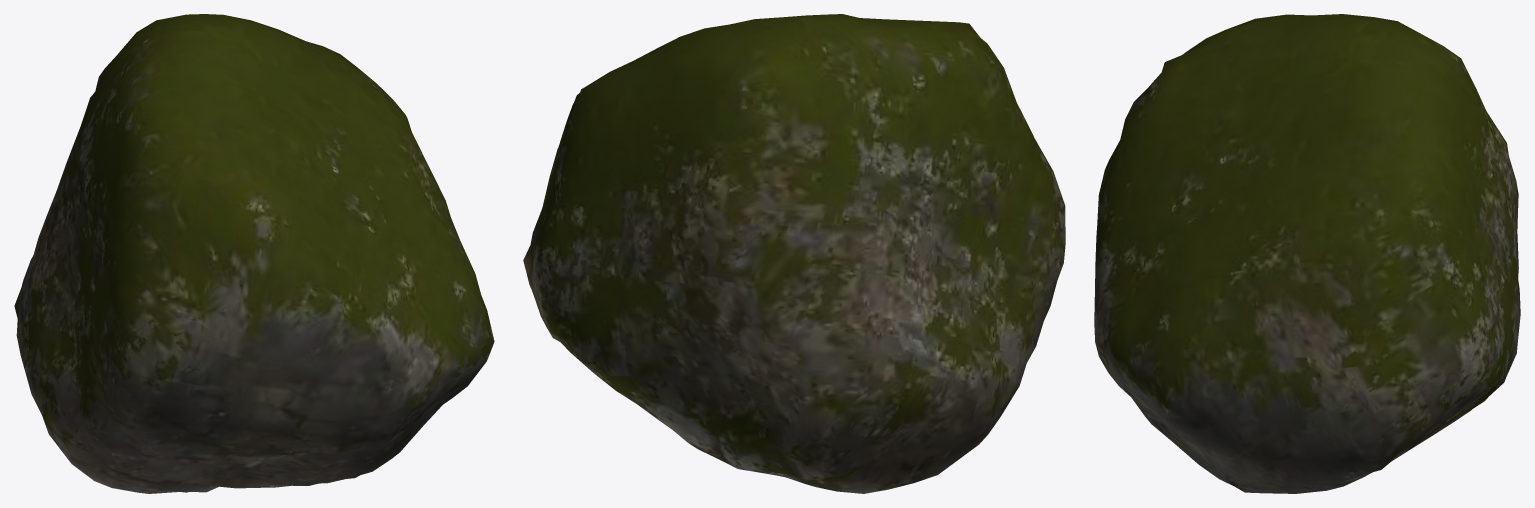
The model's file is rock1.glb.
3 views of the same model, side by side, from view 1: azimuth 30°, elevation 25°; view 2: azimuth 150°, elevation 25°; view 3: azimuth 270°, elevation 25° (orthographic). The views are drawn at different scales.
Parts seen in each view (by area): view 1: A_Set; view 2: A_Set; view 3: A_Set.
Part boxes in pixels (<box>): A_Set: <box>14,14,494,493</box>; A_Set: <box>523,14,1065,493</box>; A_Set: <box>1094,14,1520,493</box>.
Size of the model in its own units: 5.46 by 5.41 by 5.04.
Materials: 1 (1 with a texture image).
